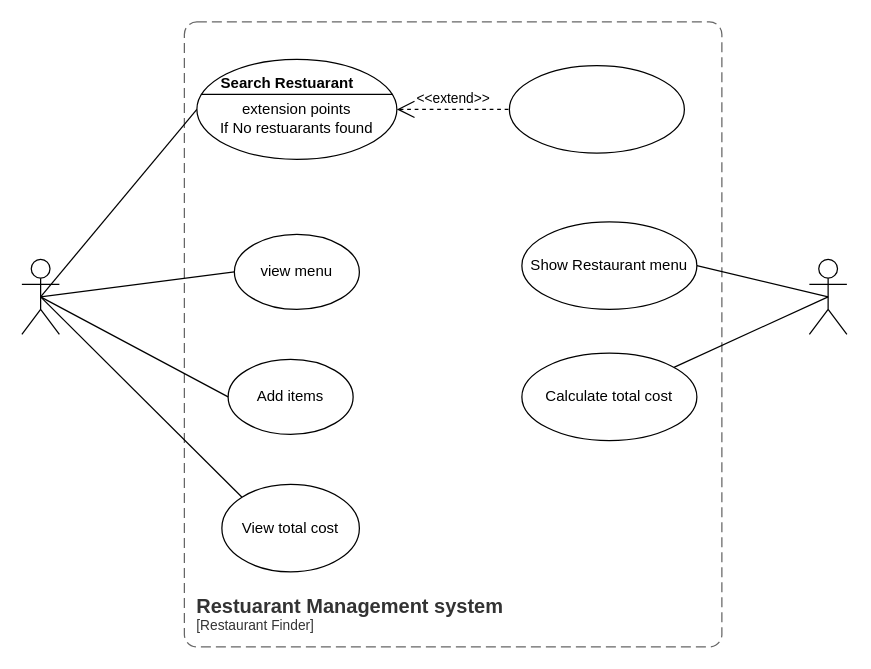
Some shapes in this 871 by 669 pixel diagram are drawn without their labels. Each missing label, with the centre of its shape:
Admin: [827,296]
No search results: [596,108]
User: [40,296]
